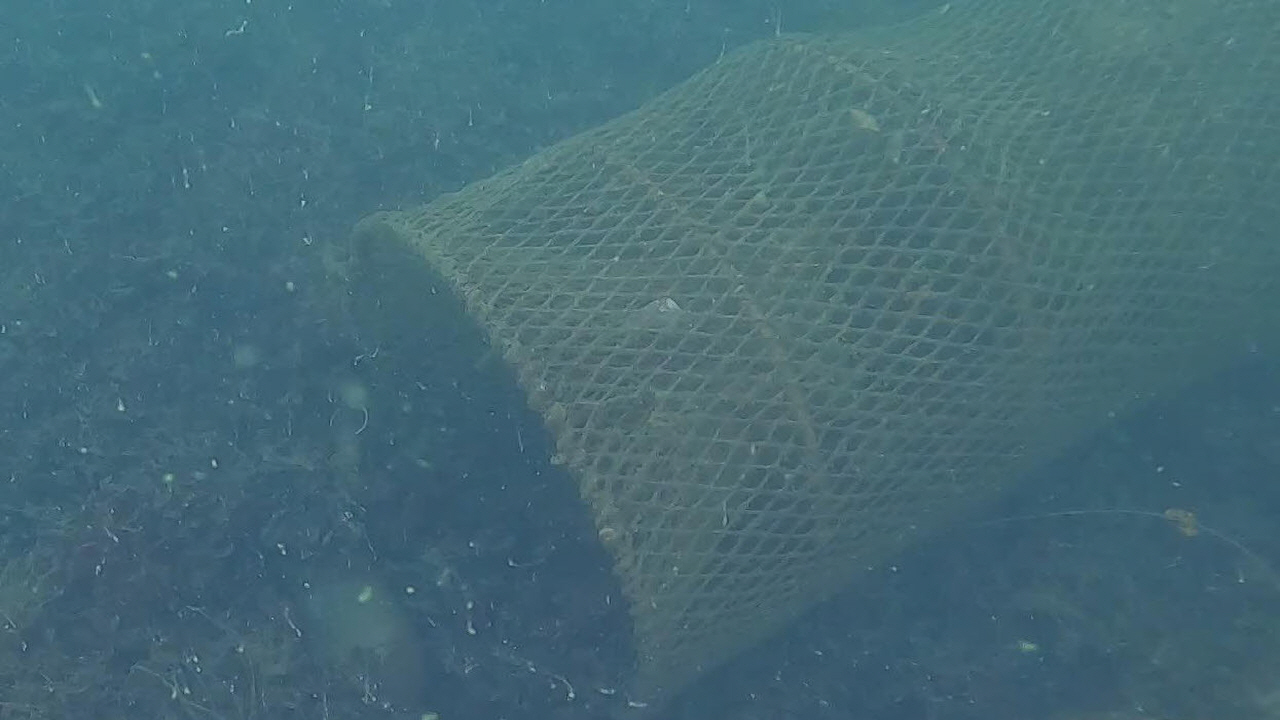spring fish trap: (344, 0, 1280, 720)
